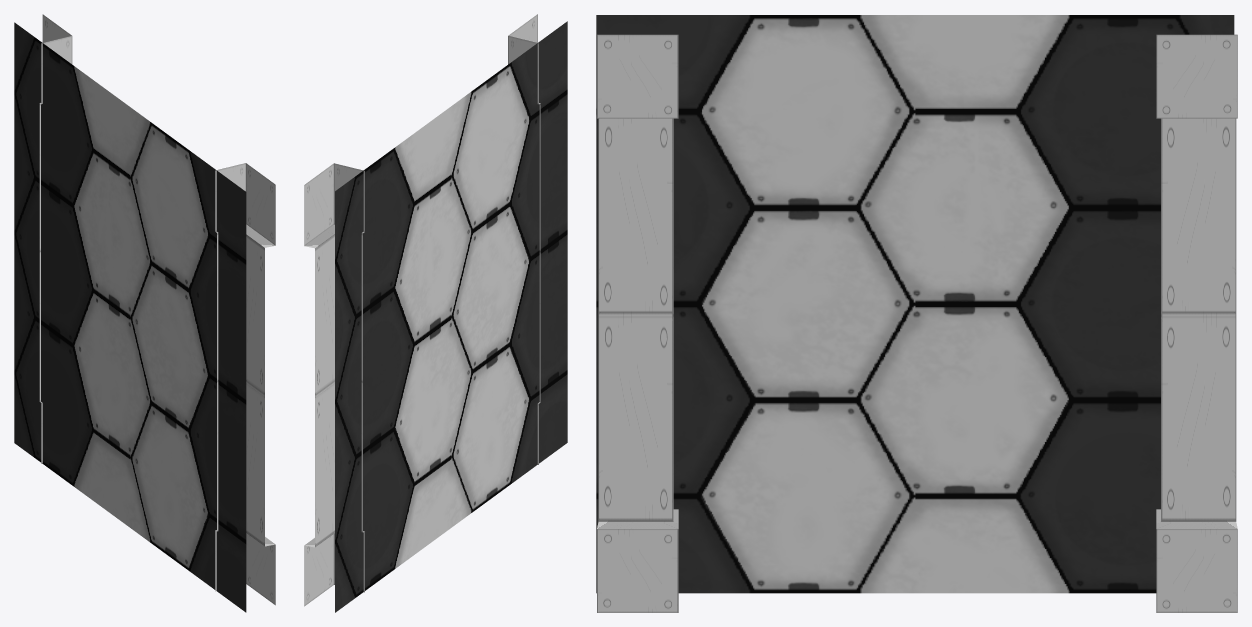
File: Wall_Sides.fbx
3 views of the same model, side by side, from view 1: azimuth 30°, elevation 25°; view 2: azimuth 150°, elevation 25°; view 3: azimuth 270°, elevation 25° (orthographic). The views are drawn at different scales.
Visible parts, largest first — view 1: pPlane133; view 2: pPlane133; view 3: pPlane133.
Boxes of the visible parts, x1,y1,x2,y2 form: pPlane133: (14,14,275,612); pPlane133: (304,14,567,612); pPlane133: (596,15,1237,612).
Bounding box in the file's own units: 0.1534 × 2 × 2.01.
